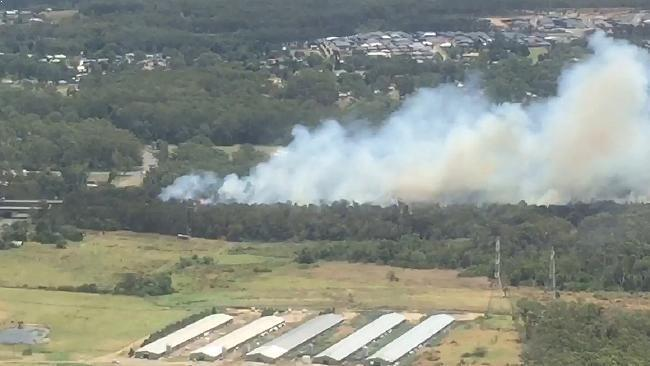smoke: (309, 135, 568, 188), (567, 68, 650, 185)
